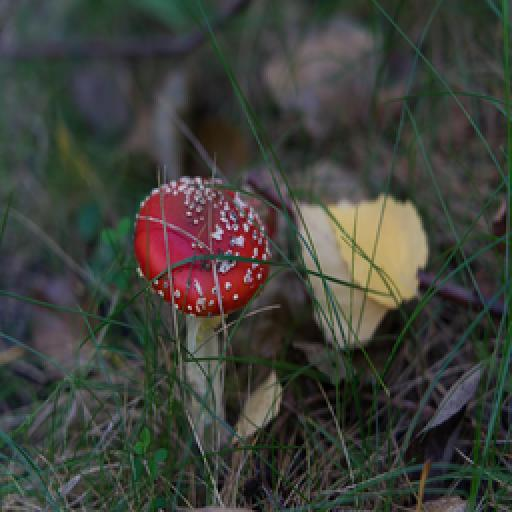mushrooms: (128, 175, 279, 452)
